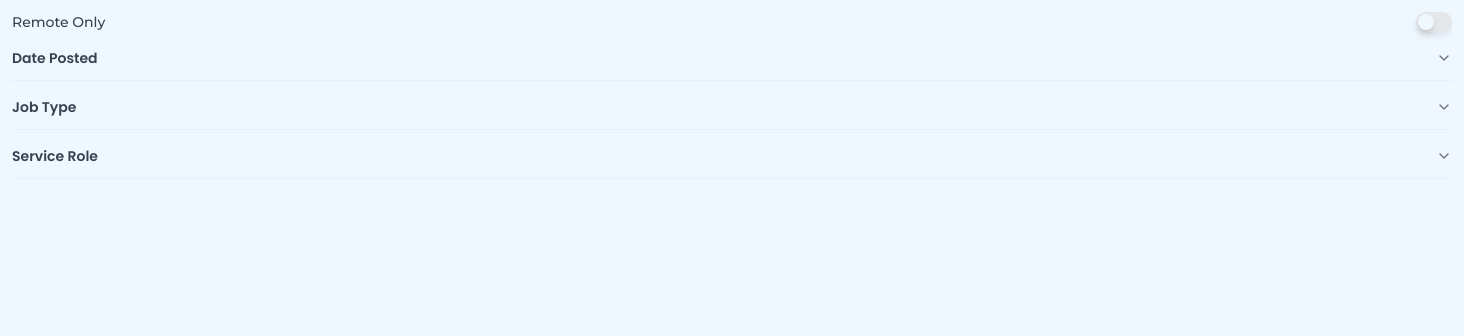
FilterOptionsContent › Job Type checkboxes › renders all 5 job types including Volunteer
Note: Open the Job Type accordion
Click the button "Job Type" at (44, 107), box [12,85,1452,129]
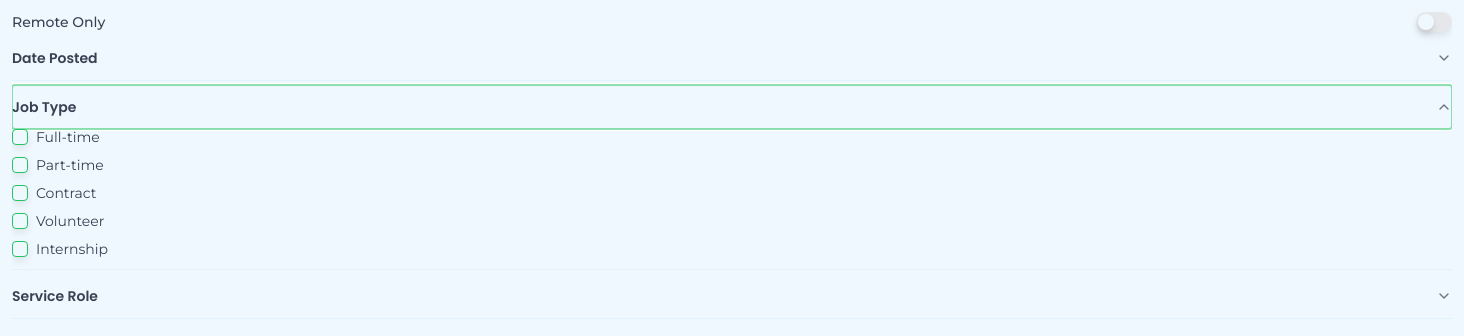
Now the checkbox named "Full-time" next to "Full-time" is shown, box [12,129,28,145]
Now the checkbox named "Part-time" next to "Part-time" is shown, box [12,157,28,173]
Now the checkbox named "Contract" next to "Contract" is shown, box [12,185,28,201]
